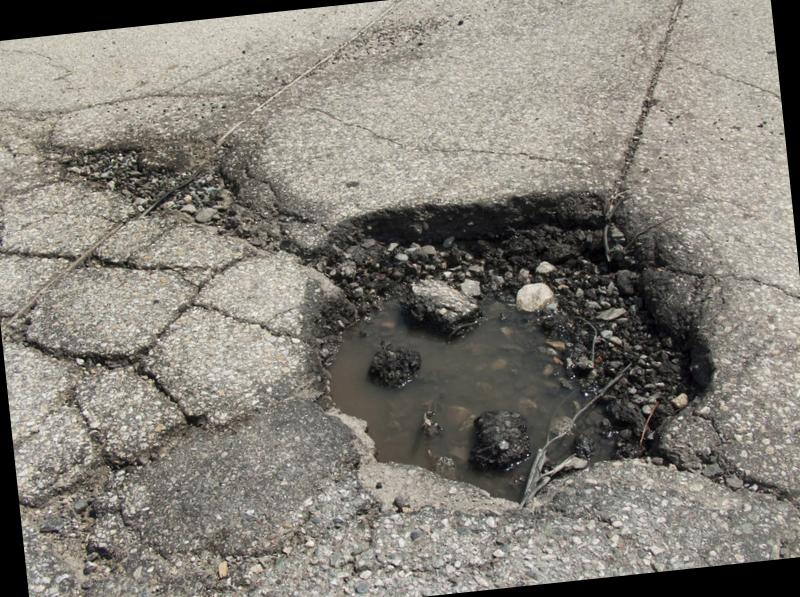pothole: (0, 0, 800, 597), (266, 148, 744, 548)
